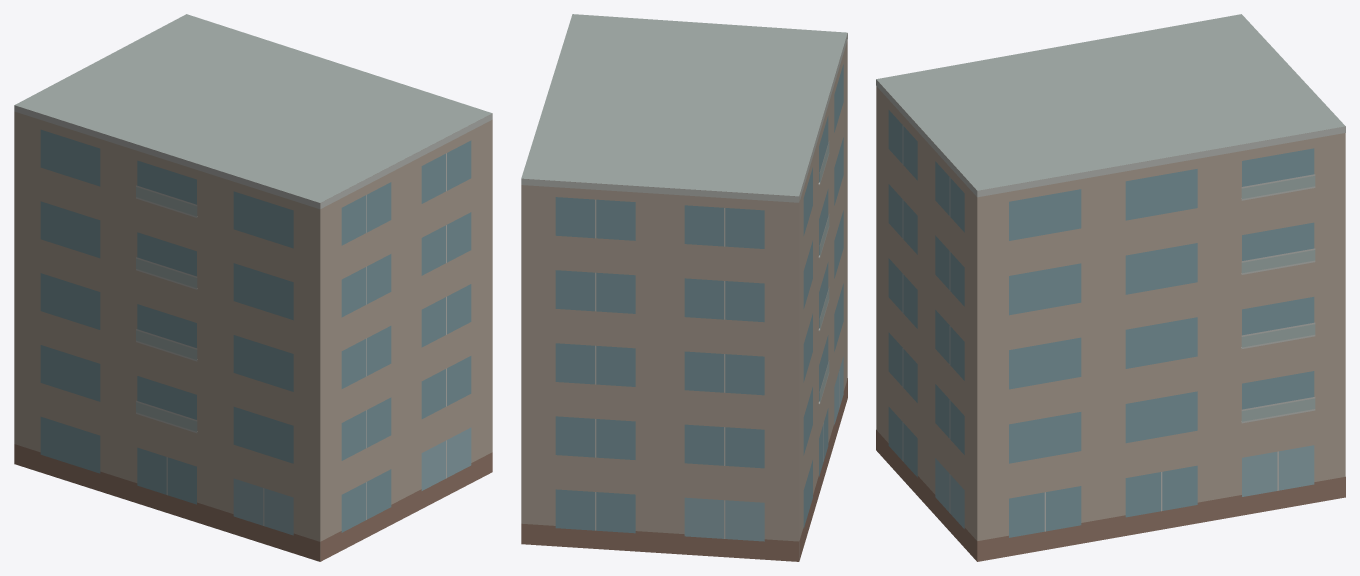
Rendered from survey-upis-32881914.glb.
3 renders of one model, left to right at view 1: azimuth 30°, elevation 25°; view 2: azimuth 150°, elevation 25°; view 3: azimuth 270°, elevation 25°, orthographic. The views are drawn at different scales.
Visible parts, largest first — view 1: survey-upis-32881914.tmp; view 2: survey-upis-32881914.tmp; view 3: survey-upis-32881914.tmp.
Part boxes in pixels (bbox=[...]): survey-upis-32881914.tmp: bbox=[14, 14, 492, 561]; survey-upis-32881914.tmp: bbox=[521, 14, 847, 561]; survey-upis-32881914.tmp: bbox=[876, 14, 1345, 561].
Bounding box in the file's own units: 14.22 × 13.9 × 15.95.
